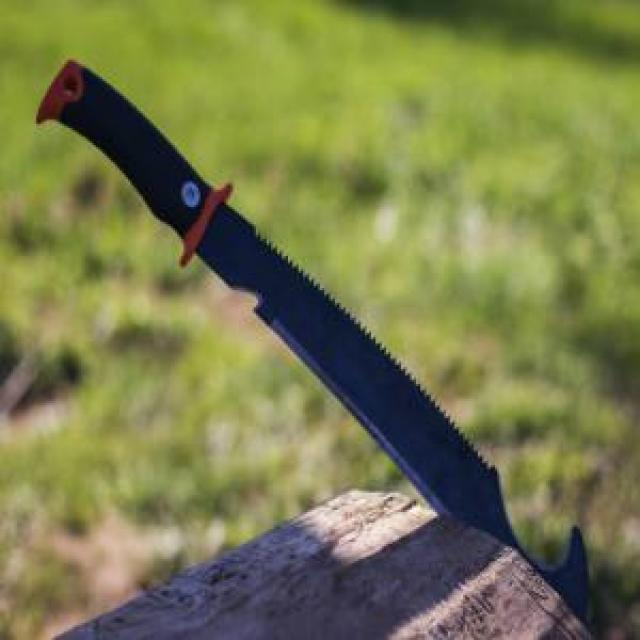knife: (13, 55, 611, 624)
